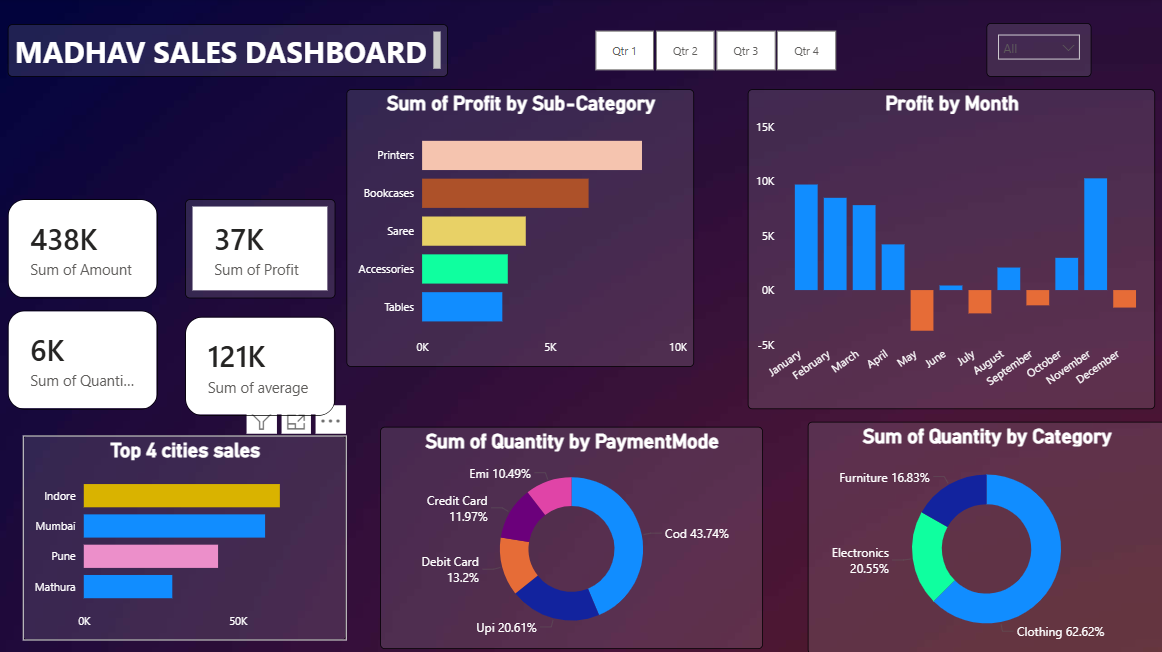

What the dashboard file says about the page in this screenshot:
{"tool":"powerbi","page":{"name":"Page 1","canvas":[1280,720],"ordinal":0},"visuals":[{"type":"textbox","box":[9.6,28.8,483,57.6],"z":0},{"type":"columnChart","title":" Profit by Month","fields":{"Y":["Sum(Details.Profit)"],"Category":["Orders.Order Date.Variation.Date Hierarchy.Month"]},"box":[822,100.2,447.3,351.3],"z":1000},{"type":"barChart","fields":{"Category":["Details.Sub-Category"],"Y":["Sum(Details.Profit)"]},"box":[381.5,100.2,381.5,304.6],"z":2000},{"type":"donutChart","fields":{"Category":["Details.Category"],"Y":["Sum(Details.Quantity)"]},"box":[887.8,465.2,392.5,255.2],"z":3000},{"type":"donutChart","fields":{"Category":["Details.PaymentMode"],"Y":["Sum(Details.Quantity)"]},"box":[418.5,470.7,419.9,244.3],"z":4000},{"type":"barChart","title":"Top 4 cities sales","fields":{"Category":["Orders.City"],"Y":["Sum(Details.Amount)"]},"box":[26.1,480.3,355.4,225],"z":5000},{"type":"cardVisual","fields":{"Data":["Sum(Details.Amount)"]},"box":[9.6,220.9,164.7,108.4],"z":6000},{"type":"cardVisual","fields":{"Data":["Sum(Details.Profit)"]},"box":[204.5,220.9,164.7,108.4],"z":7000},{"type":"cardVisual","fields":{"Data":["Sum(Details.Quantity)"]},"box":[9.6,343.1,164.7,108.4],"z":8000},{"type":"cardVisual","fields":{"Data":["Sum(Details.average)"]},"box":[204.5,349.9,164.7,108.4],"z":9000},{"type":"slicer","fields":{"Values":["Orders.Order Date.Variation.Date Hierarchy.Quarter"]},"box":[628.5,28.8,314.2,57.6],"z":10000},{"type":"slicer","fields":{"Values":["Orders.State"]},"box":[1084.1,27.4,115.3,59],"z":11000}]}

Visuals, with their boxes in screenshot pixels (x1, y1, x2, y2), scaled from the page's 1280x720 canvas onto the 1162x652 screenshot:
textbox: Rect(9, 26, 447, 78)
" Profit by Month" columnChart: Rect(746, 91, 1152, 409)
barChart - Details.Sub-Category x Sum(Details.Profit): Rect(346, 91, 693, 367)
donutChart - Details.Category x Sum(Details.Quantity): Rect(806, 421, 1161, 651)
donutChart - Details.PaymentMode x Sum(Details.Quantity): Rect(380, 426, 761, 647)
"Top 4 cities sales" barChart: Rect(24, 435, 346, 639)
cardVisual - Sum(Details.Amount): Rect(9, 200, 158, 298)
cardVisual - Sum(Details.Profit): Rect(186, 200, 335, 298)
cardVisual - Sum(Details.Quantity): Rect(9, 311, 158, 409)
cardVisual - Sum(Details.average): Rect(186, 317, 335, 415)
slicer - Orders.Order Date.Variation.Date Hierarchy.Quarter: Rect(571, 26, 856, 78)
slicer - Orders.State: Rect(984, 25, 1089, 78)
